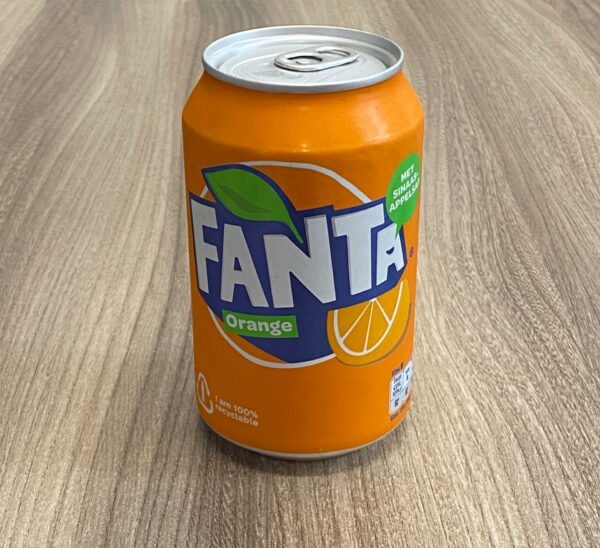metal: (179, 24, 426, 462)
